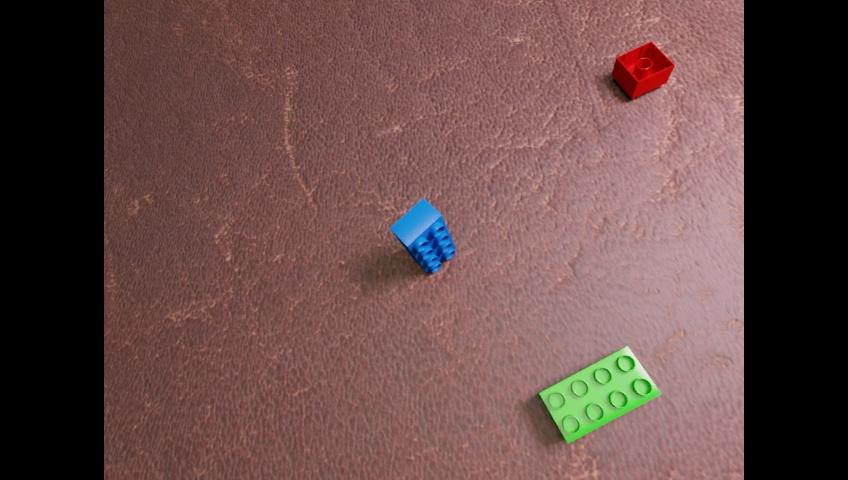2x2_red: (611, 41, 674, 98)
4x2_blue: (391, 200, 456, 276)
4x2_green: (537, 346, 660, 443)
